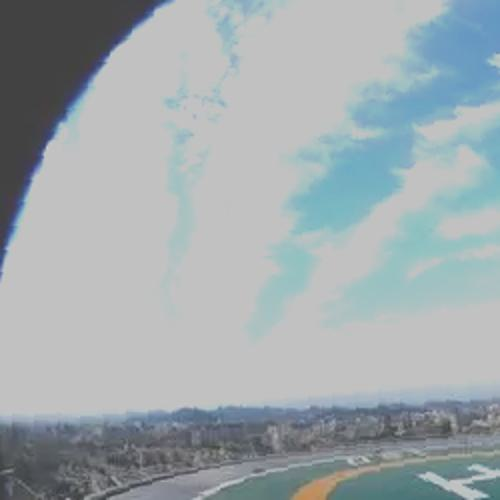Apron: (288, 432, 500, 500)
